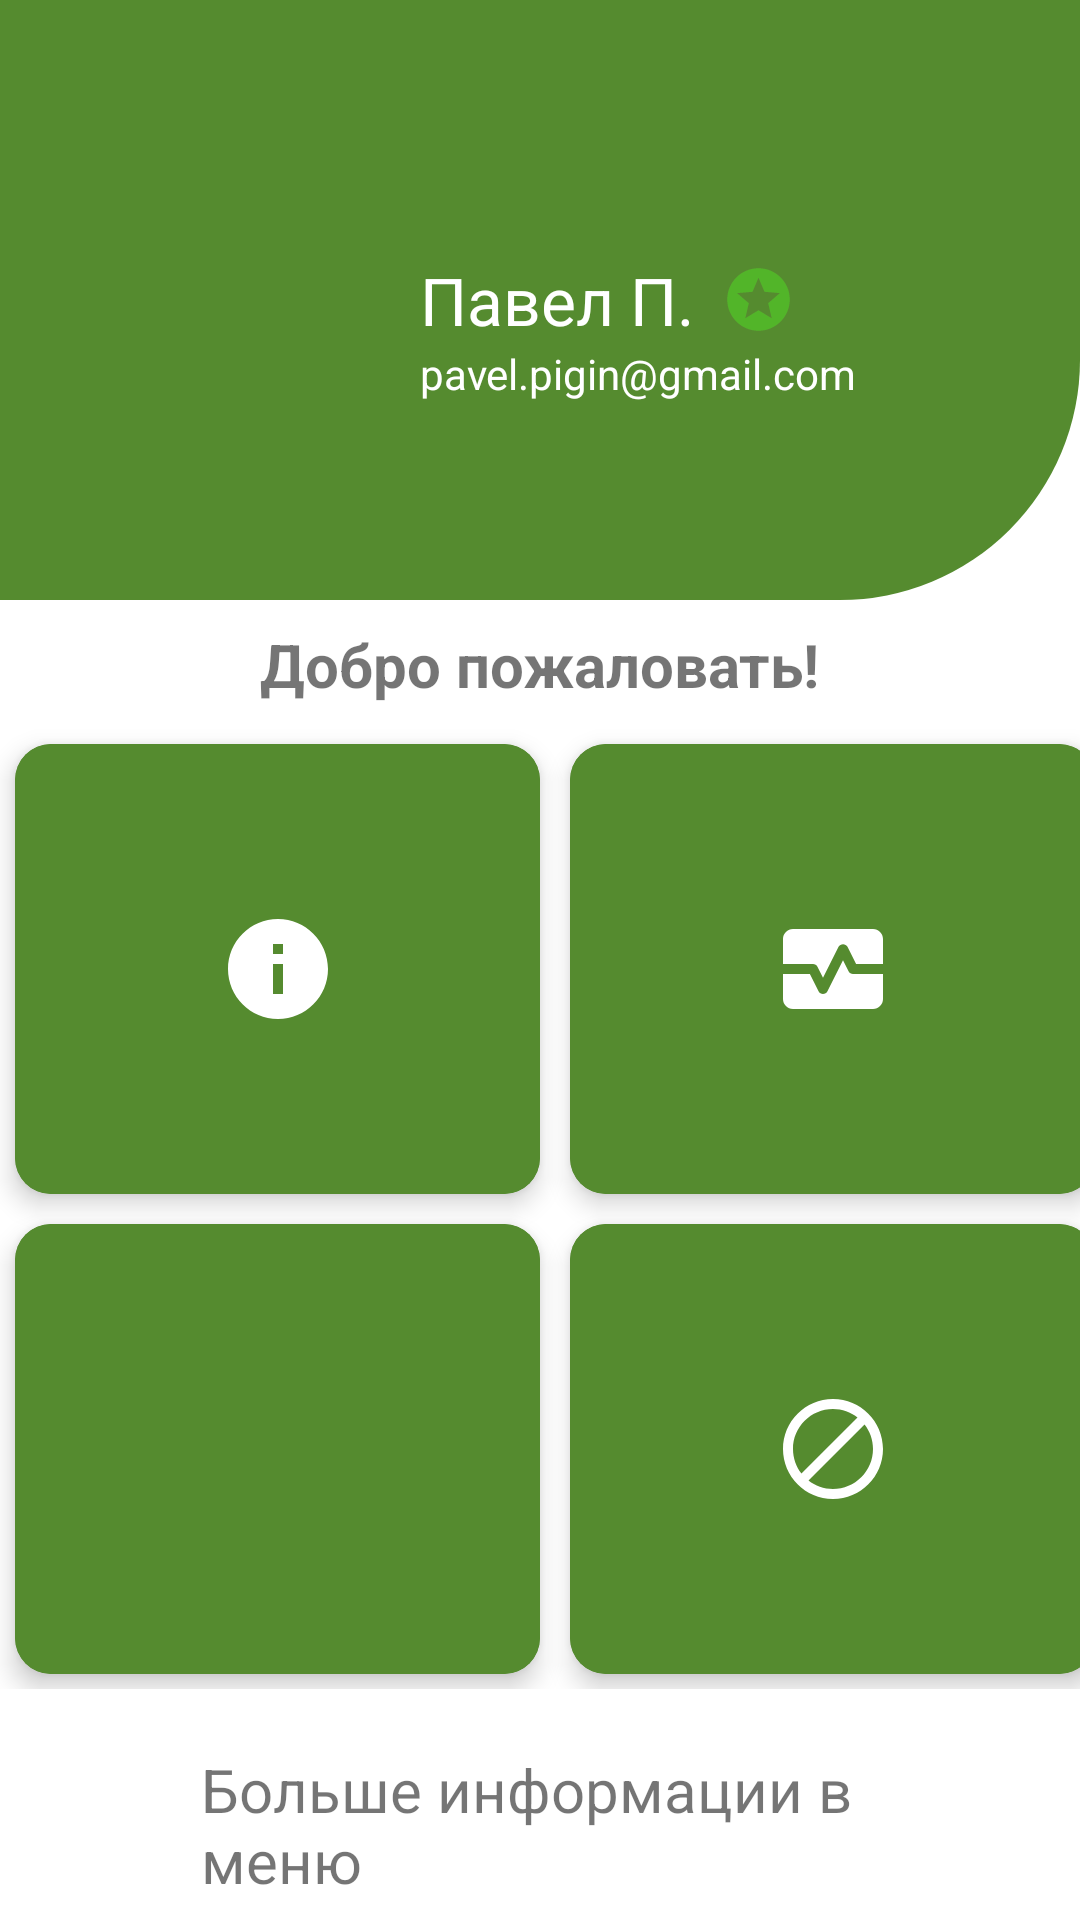

Icons on this 1080px×1920px Android screen, each with its box as (x1,y1,x2,y2):
star: (727,268,790,331)
